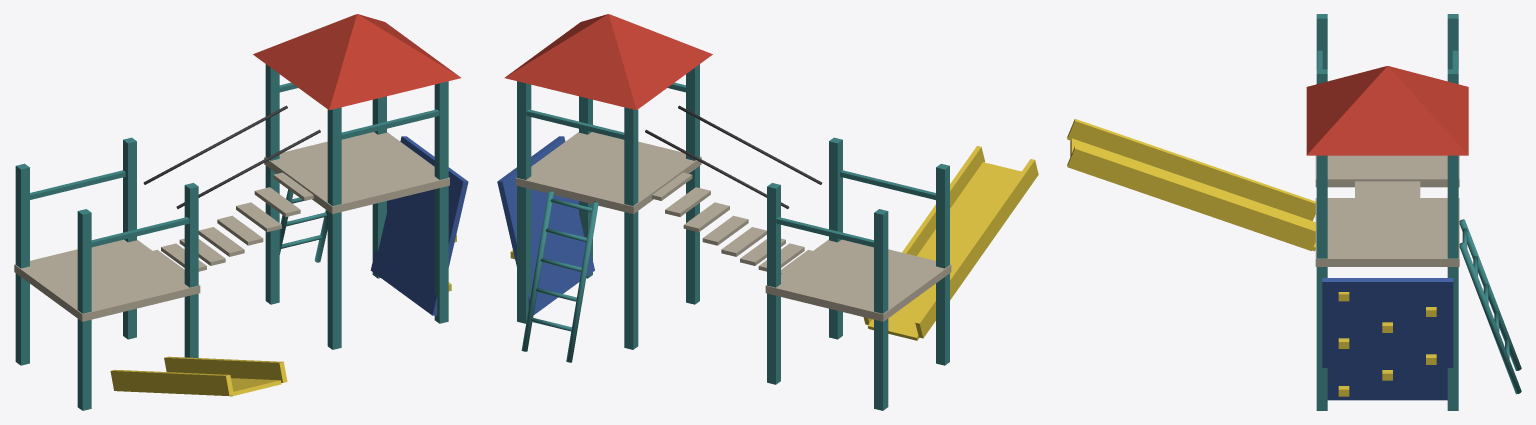
File: hood_play_tower.glb
The picture shows the model from 3 angles, left to right: view 1: azimuth 30°, elevation 25°; view 2: azimuth 150°, elevation 25°; view 3: azimuth 270°, elevation 25°; orthographic projection. The views are drawn at different scales.
Visible parts, largest first — view 1: ladder_side, deck, canopy, climb_panel, grip, plank, bridge_chain; view 2: ladder_side, deck, canopy, grip, climb_panel, plank, bridge_chain; view 3: climb_panel, grip, canopy, deck, ladder_side, plank.
Part boxes in pixels (x1,y1,x2,y2): ladder_side: (15,64,448,410); deck: (14,132,449,321); canopy: (253,14,460,110); climb_panel: (370,136,468,315); grip: (110,235,456,396); plank: (153,172,313,273); bridge_chain: (143,105,320,208); ladder_side: (517,64,949,410); deck: (515,132,951,321); canopy: (504,14,712,110); grip: (510,146,1038,340); climb_panel: (497,136,594,315); plank: (652,172,812,273); bridge_chain: (645,105,822,208); climb_panel: (1322,278,1453,400); grip: (1067,119,1436,396); canopy: (1306,66,1468,155); deck: (1315,155,1459,266); ladder_side: (1316,14,1521,410); plank: (1355,181,1420,197).
Size of the model in its own units: 4.38 by 3.18 by 4.16.
